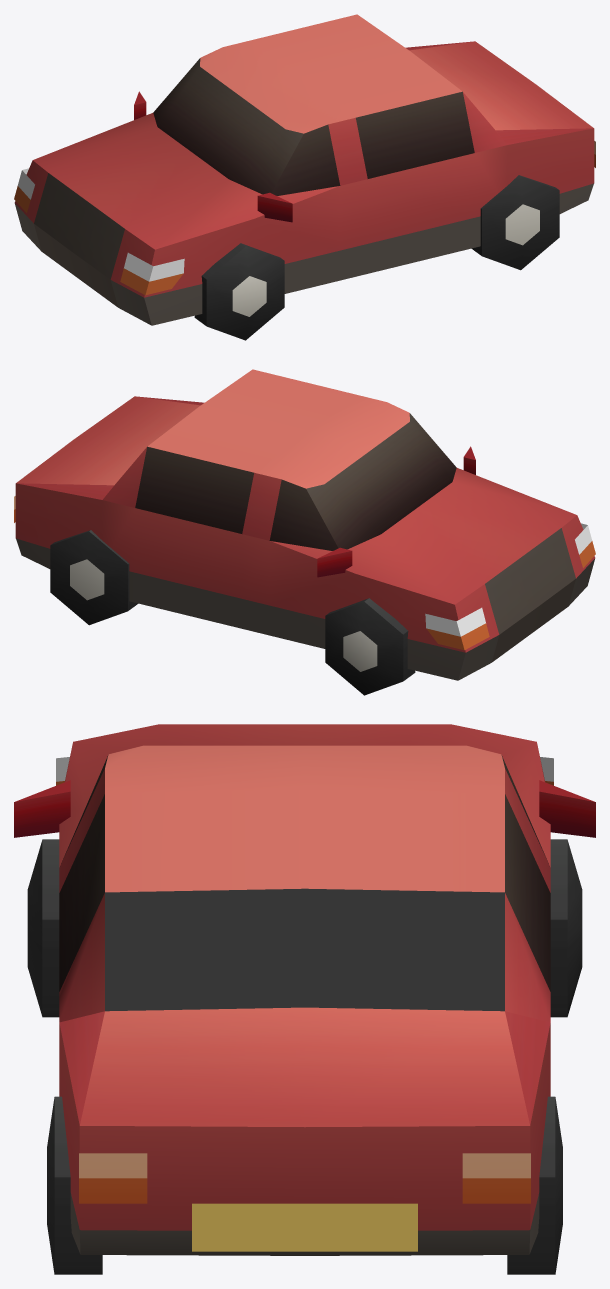
File: SM_City_Car_02.fbx
The picture shows the model from 3 angles, top to bottom: view 1: azimuth 30°, elevation 25°; view 2: azimuth 150°, elevation 25°; view 3: azimuth 270°, elevation 25°; orthographic projection. The views are drawn at different scales.
Visible parts, largest first — view 1: SM_City_Car_02; view 2: SM_City_Car_02; view 3: SM_City_Car_02.
Boxes of the visible parts, x1=… form: SM_City_Car_02: x1=14, y1=14, x2=595, y2=340; SM_City_Car_02: x1=14, y1=369, x2=595, y2=695; SM_City_Car_02: x1=14, y1=724, x2=595, y2=1274.
Bounding box in the file's own units: 1.4 × 0.5239 × 0.8019.
